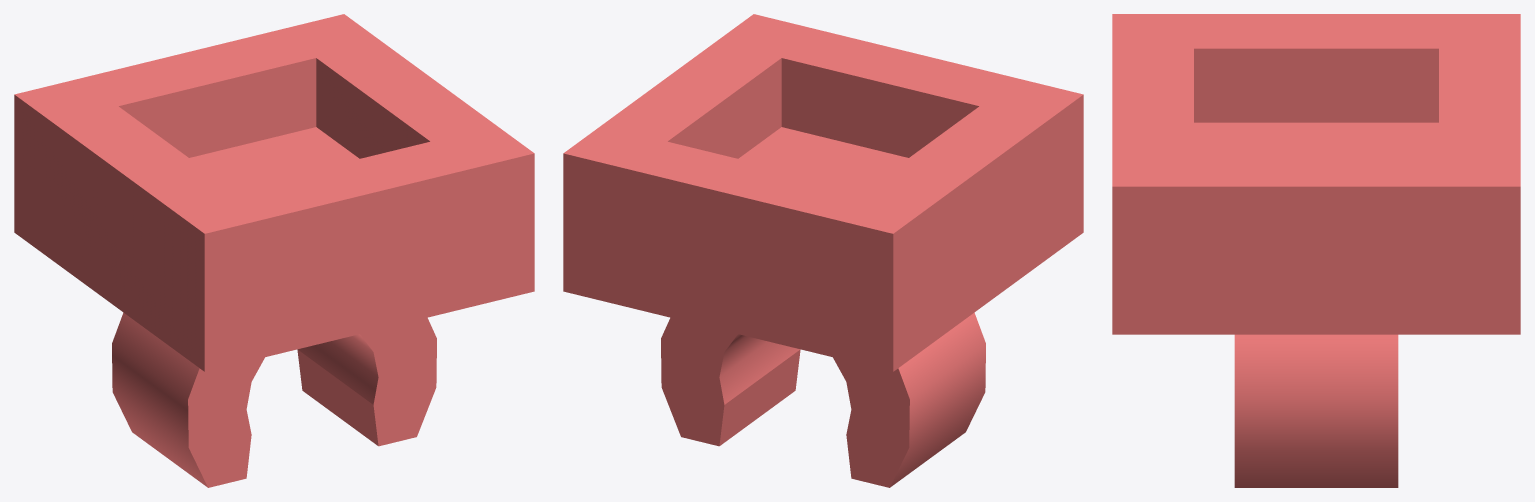
The picture shows the model from 3 angles, left to right: view 1: azimuth 30°, elevation 25°; view 2: azimuth 150°, elevation 25°; view 3: azimuth 270°, elevation 25°; orthographic projection. The views are drawn at different scales.
Parts seen in each view (by area): view 1: LDrawPart; view 2: LDrawPart; view 3: LDrawPart.
Part boxes in pixels (<box>): LDrawPart: <box>14,14,534,487</box>; LDrawPart: <box>563,14,1083,487</box>; LDrawPart: <box>1112,14,1520,487</box>.
Bounding box in the file's own units: 0.14 × 0.126 × 0.14.
